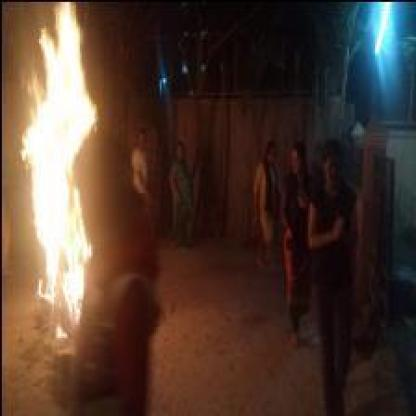Fire: (17, 4, 96, 338)
